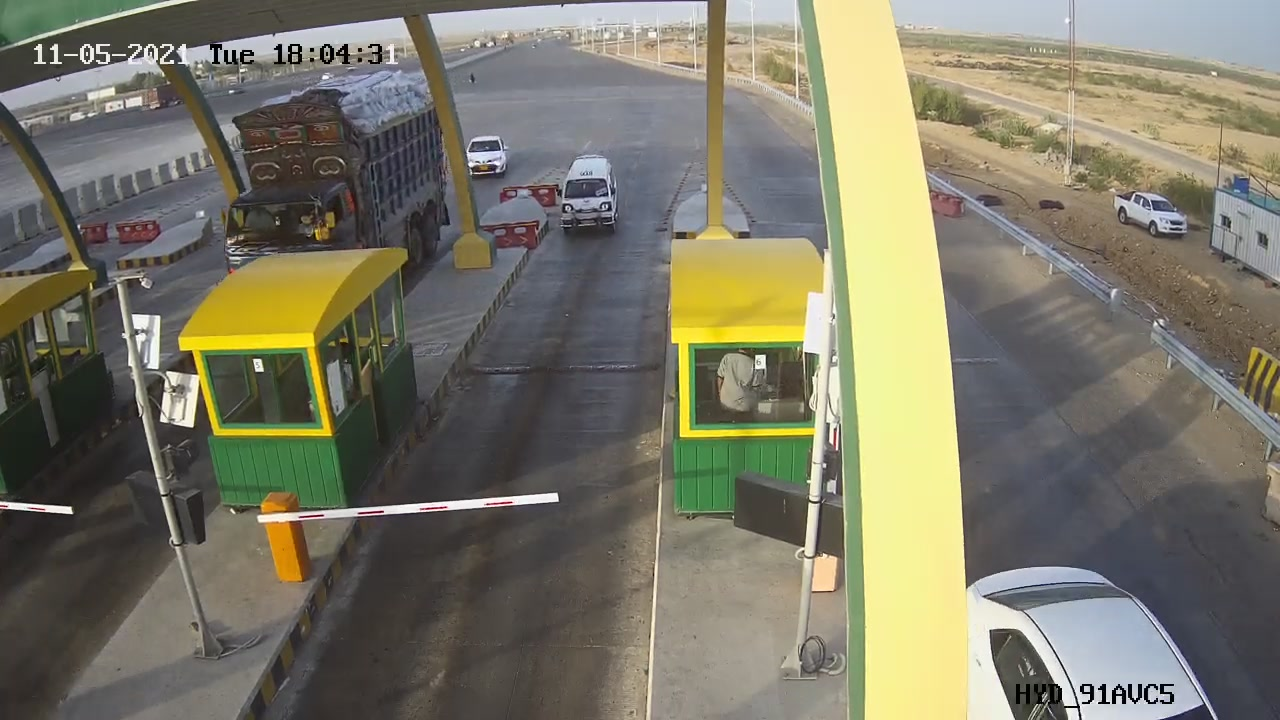F1: (546, 143, 642, 247)
